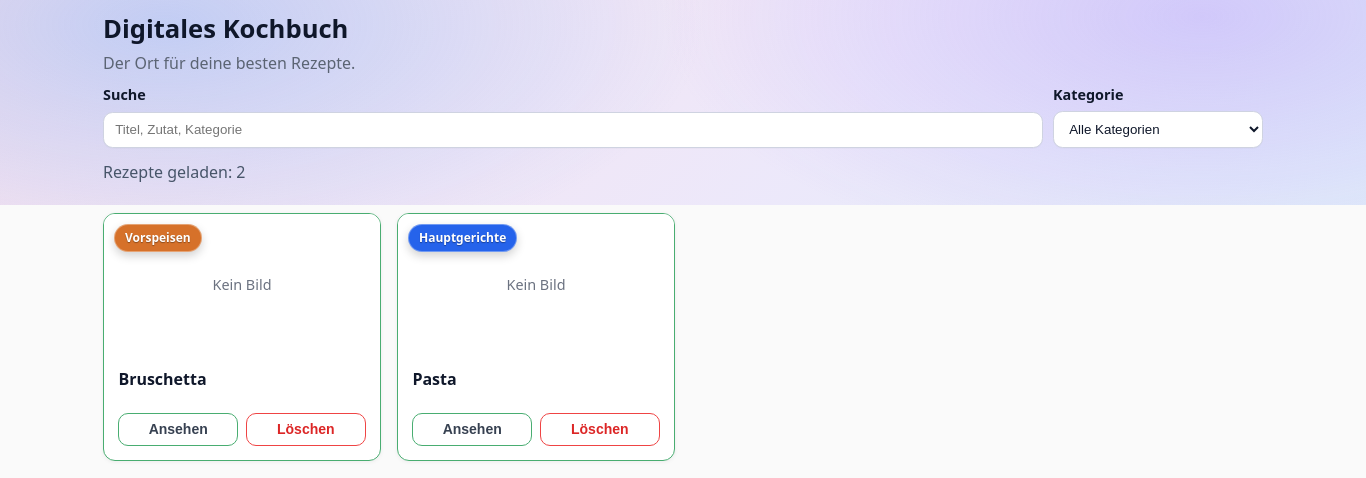
Test: HomeView › filtert Rezepte nach Suchbegriff
Suchfeld setzen
Type "brus" into the search field labelled "Suche" at (573, 130), box [103,112,1043,148]
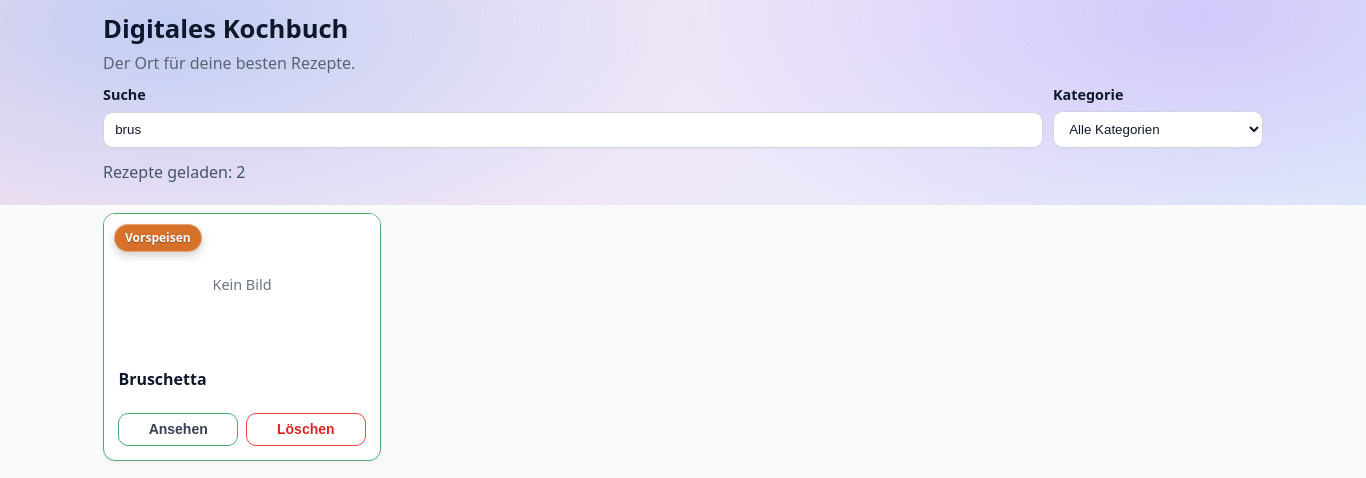
Expected: the text "Bruschetta" is shown, [118,368,207,390]
Expected: the text "Pasta" is gone
